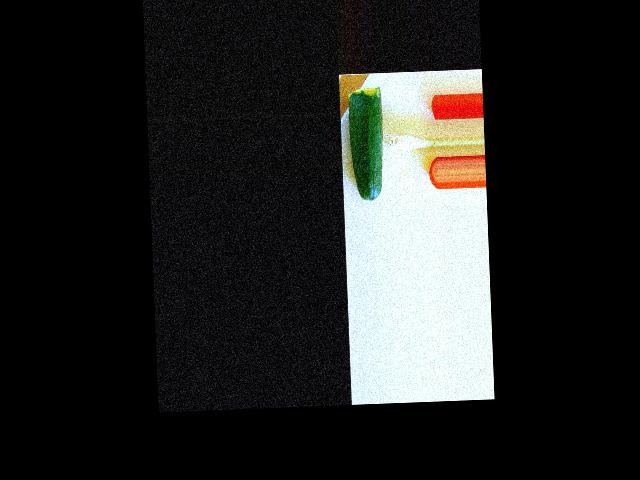cucumber: (347, 86, 384, 202)
